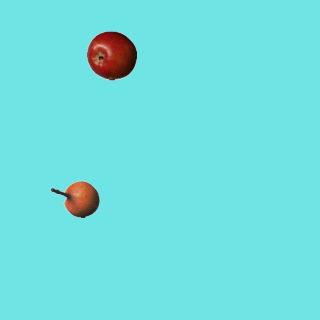Apple Braeburn: (86, 30, 136, 80)
Granadilla: (49, 174, 99, 224)
